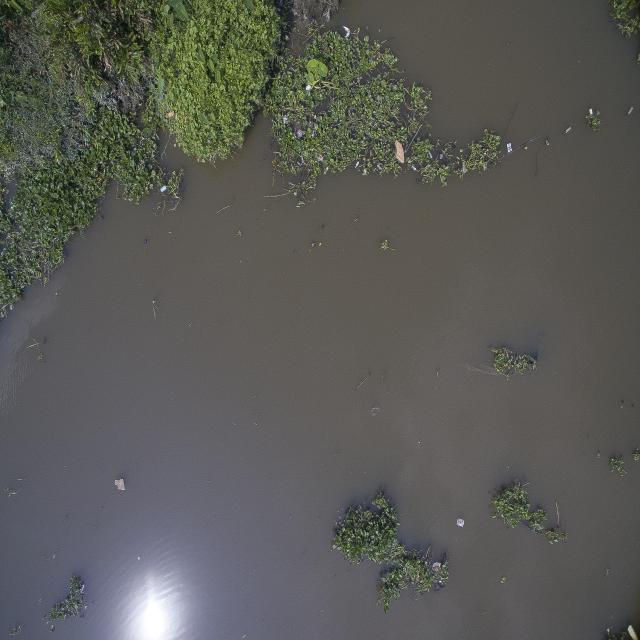plastic: (391, 137, 409, 177), (107, 471, 133, 498), (339, 17, 356, 46), (156, 182, 177, 200), (504, 132, 516, 160), (454, 516, 472, 530), (294, 123, 306, 144), (306, 77, 316, 97), (279, 114, 293, 128)
